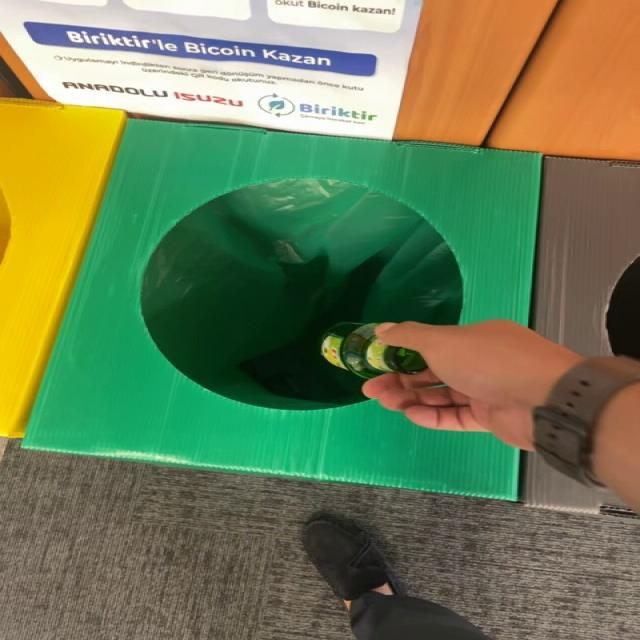glass: (321, 323, 427, 379)
